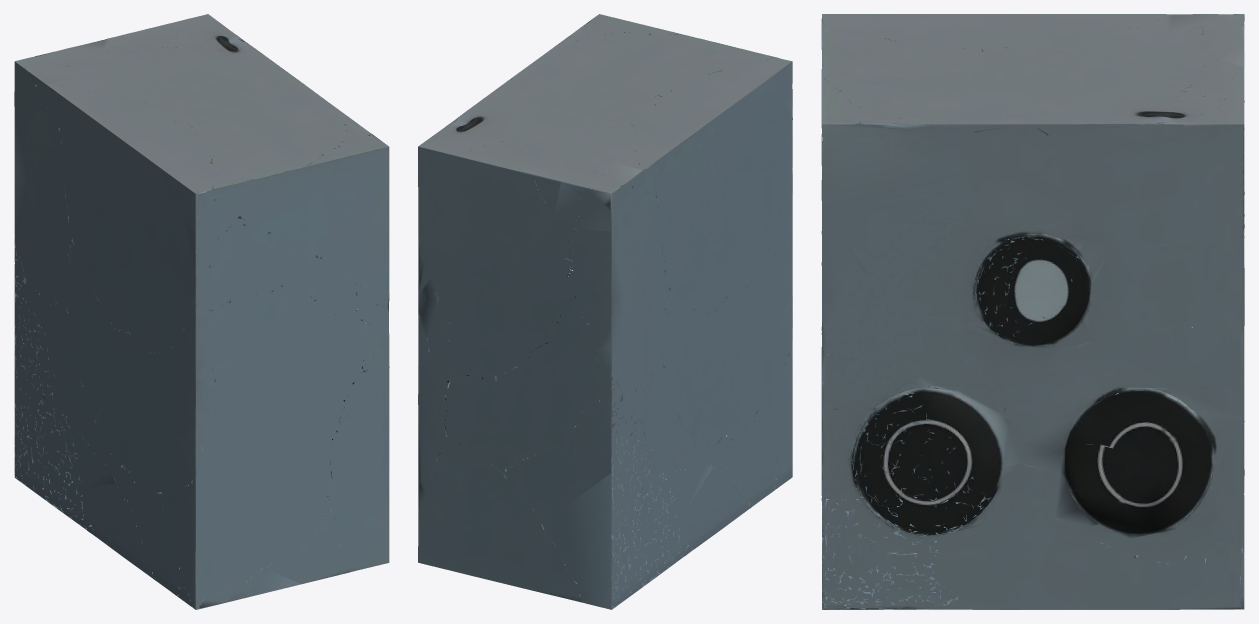
The model's file is ch05_fountain_pump_cabinet.glb.
3 renders of one model, left to right at view 1: azimuth 30°, elevation 25°; view 2: azimuth 150°, elevation 25°; view 3: azimuth 270°, elevation 25°, orthographic. The views are drawn at different scales.
Parts seen in each view (by area): view 1: material; view 2: material; view 3: material.
Part boxes in pixels (left/top/right/bottom): material: left=14, top=14, right=389, bottom=609; material: left=418, top=14, right=792, bottom=609; material: left=821, top=14, right=1244, bottom=609.
Size of the model in its own units: 0.4352 by 0.8774 by 0.6921.
Materials: 1 (1 with a texture image).
